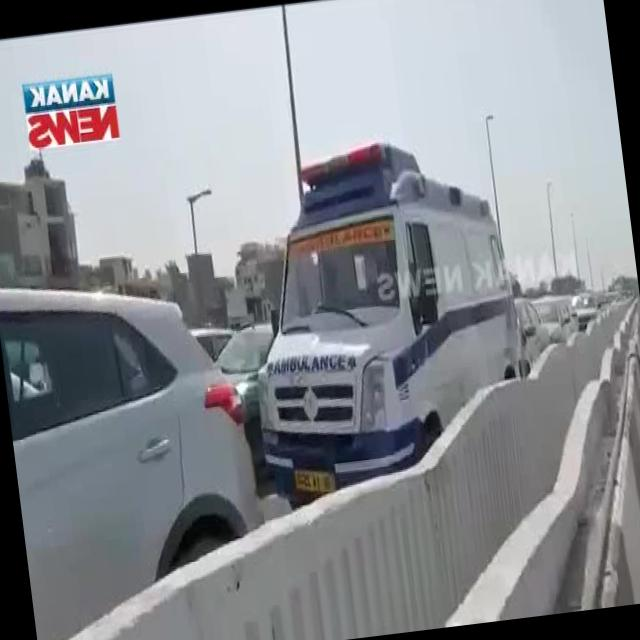ambulance: (218, 117, 535, 504)
